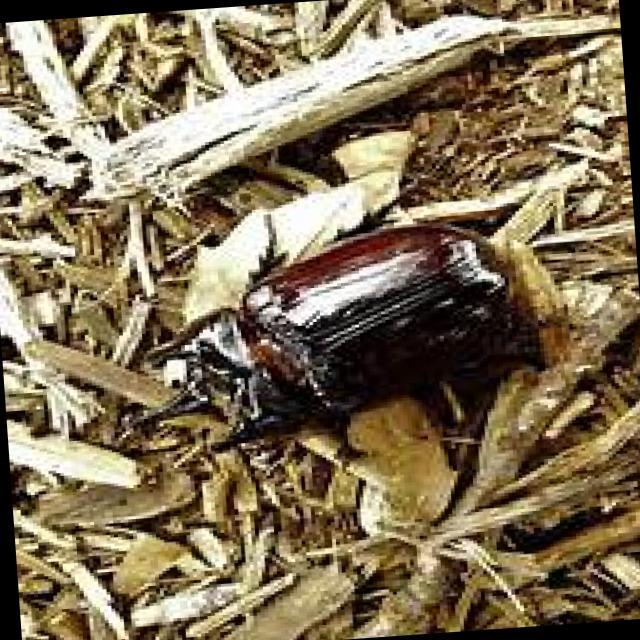Rhino-beetle: (119, 220, 572, 460)
